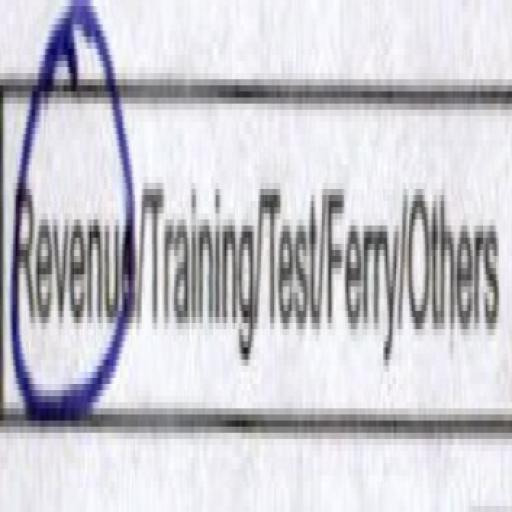check: (0, 8, 142, 499)
